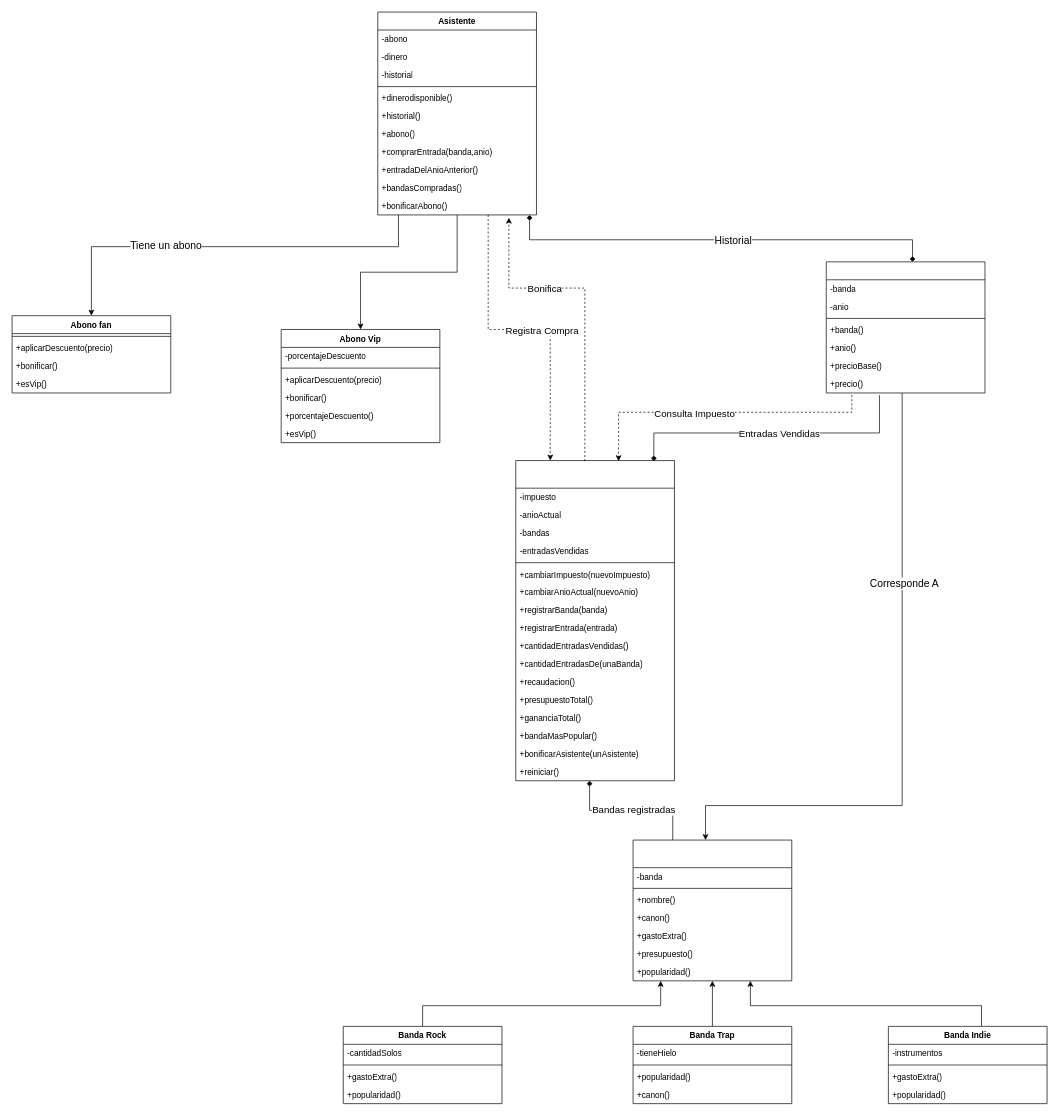
Some shapes in this 1059 by 1118 pixel diagram are drawn without their labels. Each missing label, with the box of its shape:
<<abstracta>> Banda: (632, 839, 792, 981)
<<objeto>> Productora: (515, 460, 674, 781)
Entrada: (826, 261, 985, 393)
